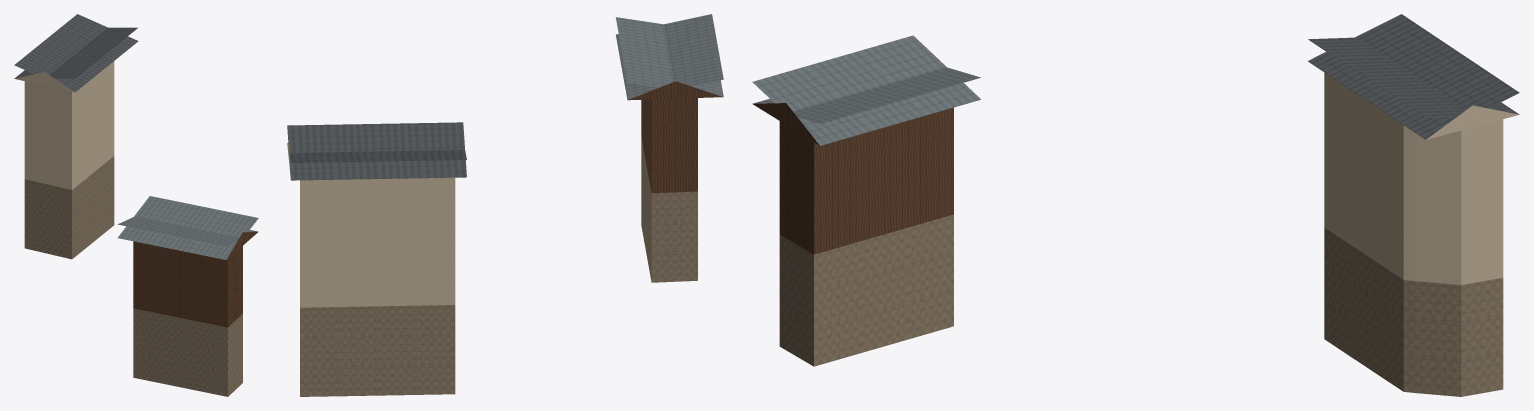
The model's file is bld_c23_29_395.gltf.
3 views of the same model, side by side, from view 1: azimuth 30°, elevation 25°; view 2: azimuth 150°, elevation 25°; view 3: azimuth 270°, elevation 25° (orthographic). The views are drawn at different scales.
Visible parts, largest first — view 1: bld_c23_29_395; view 2: bld_c23_29_395; view 3: bld_c23_29_395.
Boxes of the visible parts, left/top/right/bottom form: bld_c23_29_395: left=14, top=14, right=258, bottom=396; bld_c23_29_395: left=287, top=14, right=723, bottom=396; bld_c23_29_395: left=752, top=14, right=1519, bottom=396.
Size of the model in its own units: 13.87 by 14.4 by 31.72.
Materials: 7 (7 with a texture image).
